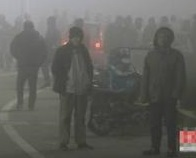person: (140, 26, 186, 155), (51, 26, 96, 153), (10, 20, 47, 112), (105, 48, 138, 95), (41, 16, 61, 88), (101, 16, 124, 50), (119, 14, 137, 52), (1, 14, 13, 70), (143, 17, 157, 42), (159, 16, 169, 28), (73, 18, 84, 28)
